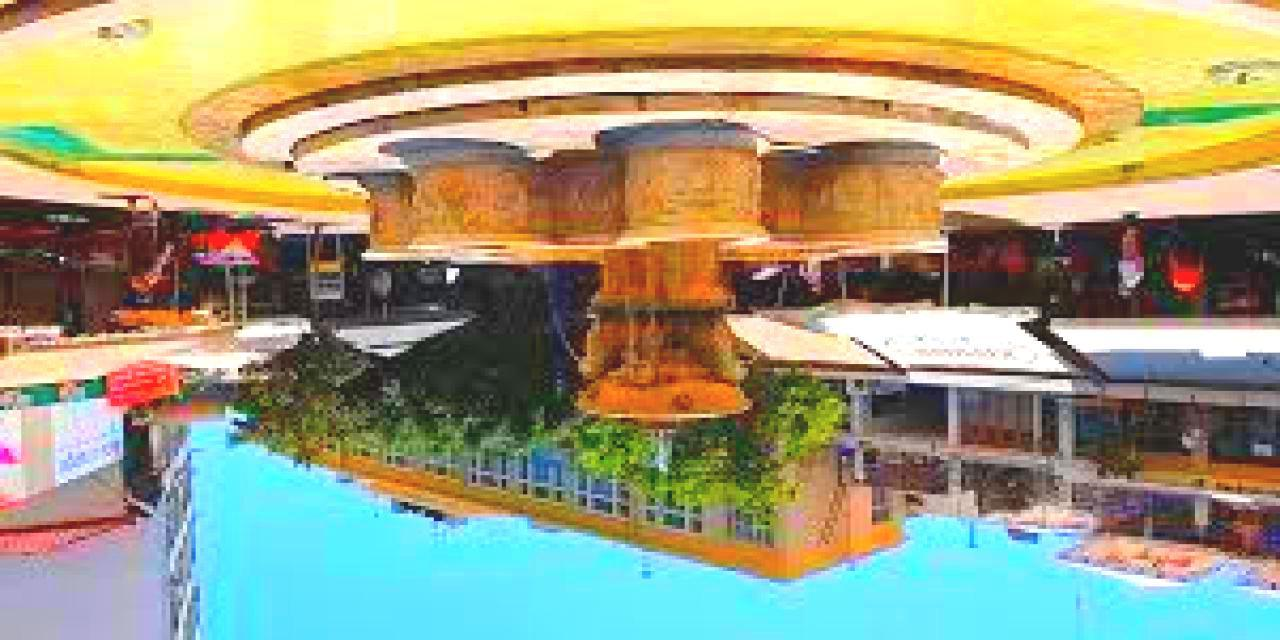Liontaria: (358, 122, 956, 428)
